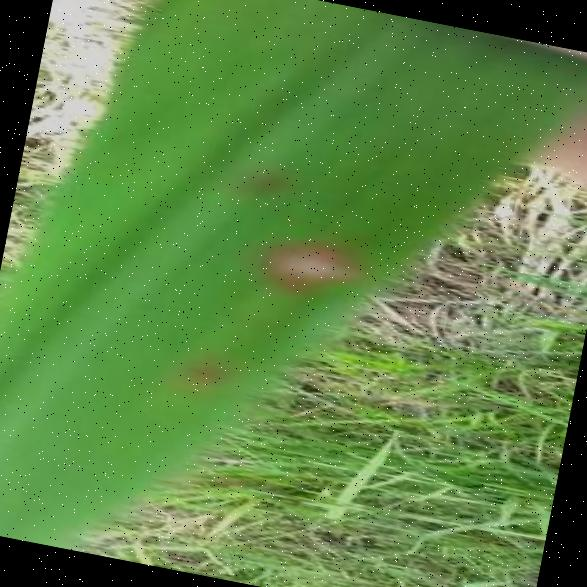Leaf_smut: (234, 194, 391, 315)
